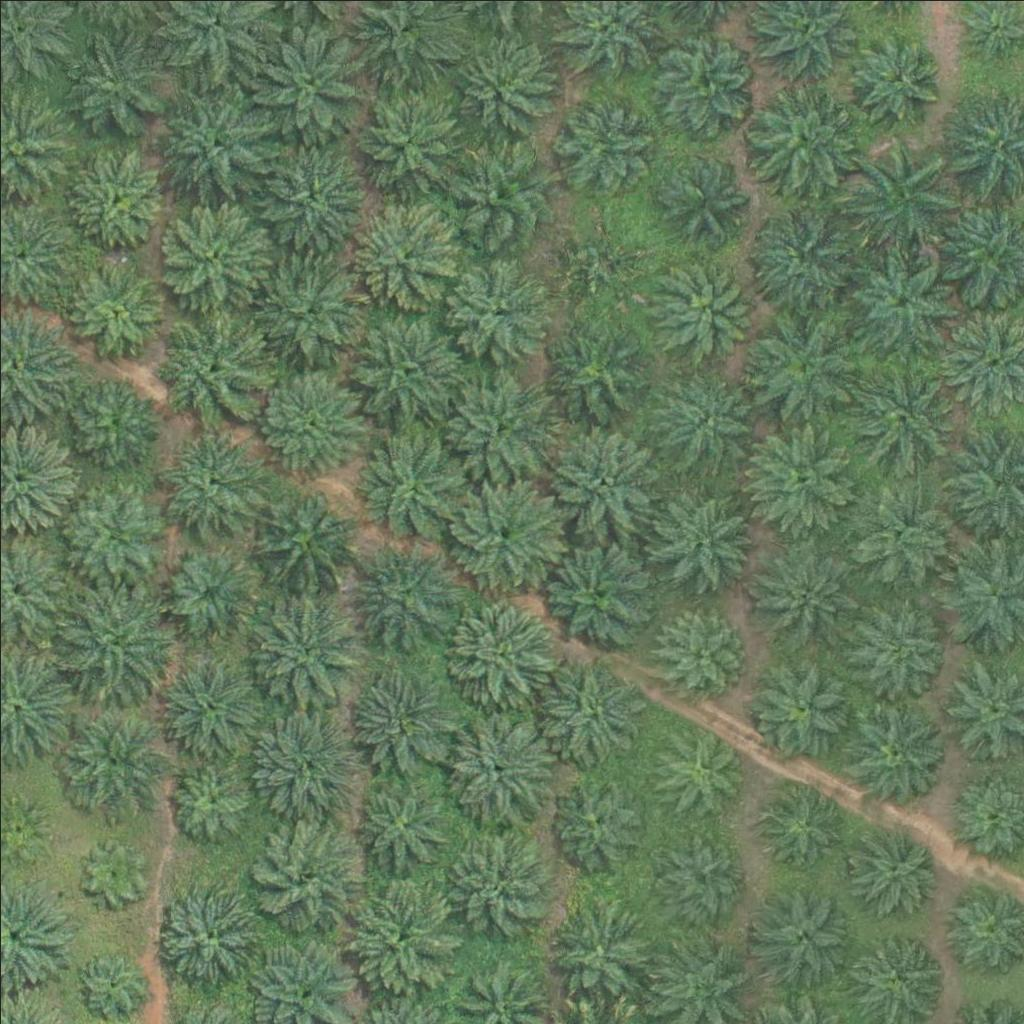Kelapa_Sawit: (243, 481, 356, 595), (535, 656, 648, 770), (358, 429, 471, 543), (251, 363, 364, 477), (153, 310, 266, 424), (156, 199, 269, 313), (55, 27, 168, 141), (251, 819, 364, 932), (247, 706, 360, 819), (246, 591, 359, 704), (346, 881, 459, 994), (344, 761, 457, 874), (543, 536, 656, 649), (745, 650, 858, 763), (845, 137, 958, 250), (544, 421, 657, 534), (541, 315, 654, 428), (443, 133, 556, 246), (255, 251, 368, 364), (158, 84, 271, 197), (747, 84, 860, 197), (349, 541, 461, 655), (439, 710, 551, 824), (443, 589, 555, 703), (56, 702, 168, 815), (57, 580, 169, 693), (148, 875, 260, 988), (154, 644, 266, 757), (344, 659, 456, 772), (438, 827, 550, 940), (743, 537, 855, 650), (839, 693, 951, 806), (845, 361, 957, 474), (846, 246, 958, 359), (745, 422, 857, 535), (746, 307, 858, 420), (743, 196, 855, 309), (448, 475, 560, 588), (443, 371, 555, 484), (442, 253, 554, 366), (347, 312, 459, 425), (346, 197, 458, 310), (249, 144, 361, 257), (251, 25, 363, 138), (351, 81, 463, 194), (158, 539, 258, 640), (849, 597, 949, 698), (848, 486, 948, 587), (649, 492, 749, 593), (660, 367, 760, 468), (651, 247, 751, 348), (652, 150, 752, 251), (58, 484, 158, 585), (57, 374, 157, 475), (456, 34, 556, 135), (549, 95, 649, 196), (654, 31, 754, 132), (550, 897, 650, 997), (549, 767, 649, 867), (650, 724, 750, 824), (753, 882, 853, 982), (155, 435, 255, 535), (59, 260, 159, 360), (63, 148, 163, 248), (166, 759, 254, 847), (850, 821, 938, 909), (851, 31, 939, 119), (546, 215, 633, 304), (661, 828, 748, 916), (654, 609, 741, 697), (763, 781, 850, 869), (77, 951, 140, 1014), (82, 840, 145, 903)
